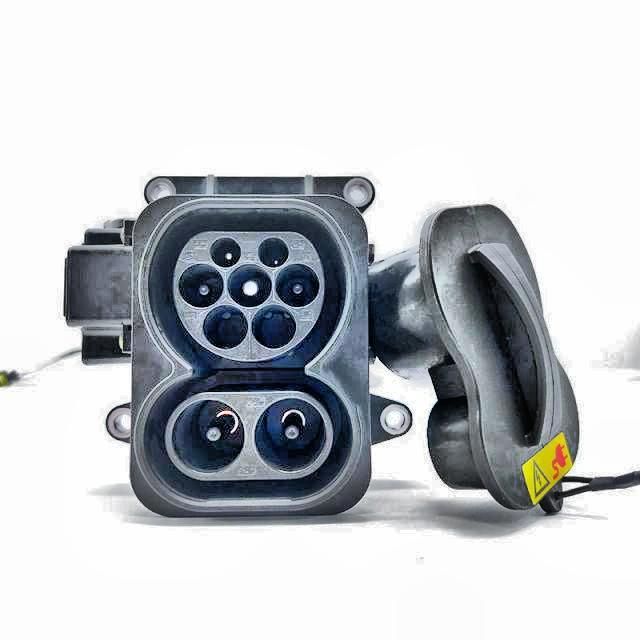inlet: (173, 231, 325, 361)
inlet-above-left: (211, 237, 241, 268)
inlet-above-right: (258, 237, 289, 268)
inlet-below-left: (203, 304, 248, 350)
inlet-below-right: (251, 304, 297, 350)
inlet-center: (227, 263, 272, 308)
inlet-center-left: (179, 263, 223, 309)
inlet-center-right: (276, 263, 320, 308)
